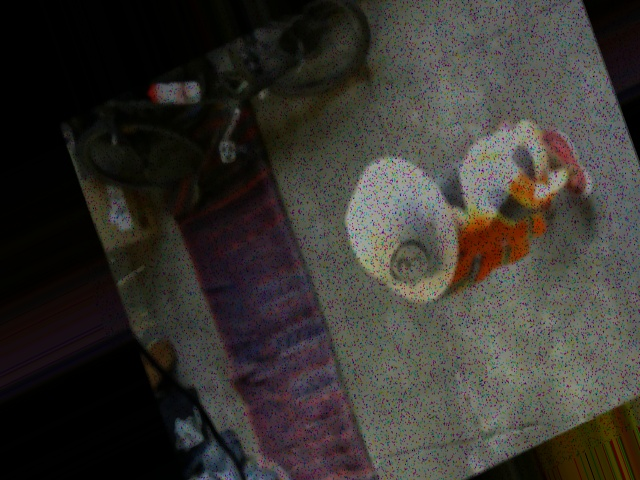three: (383, 234, 432, 289)
